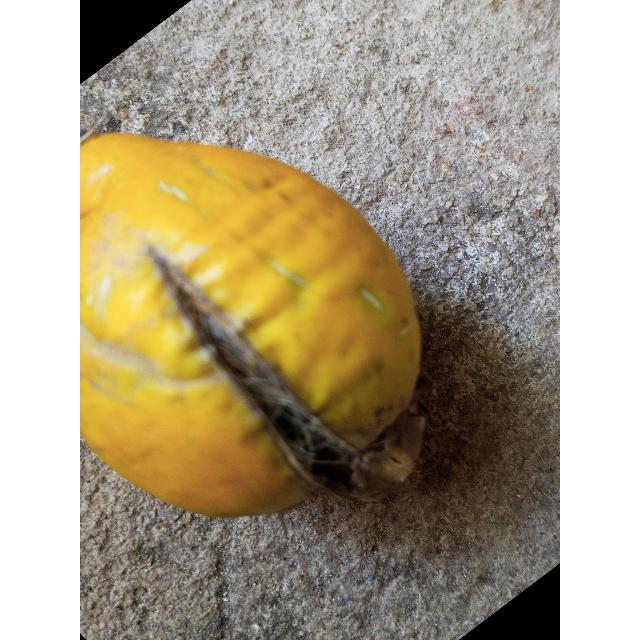damaged: (80, 133, 425, 516)
